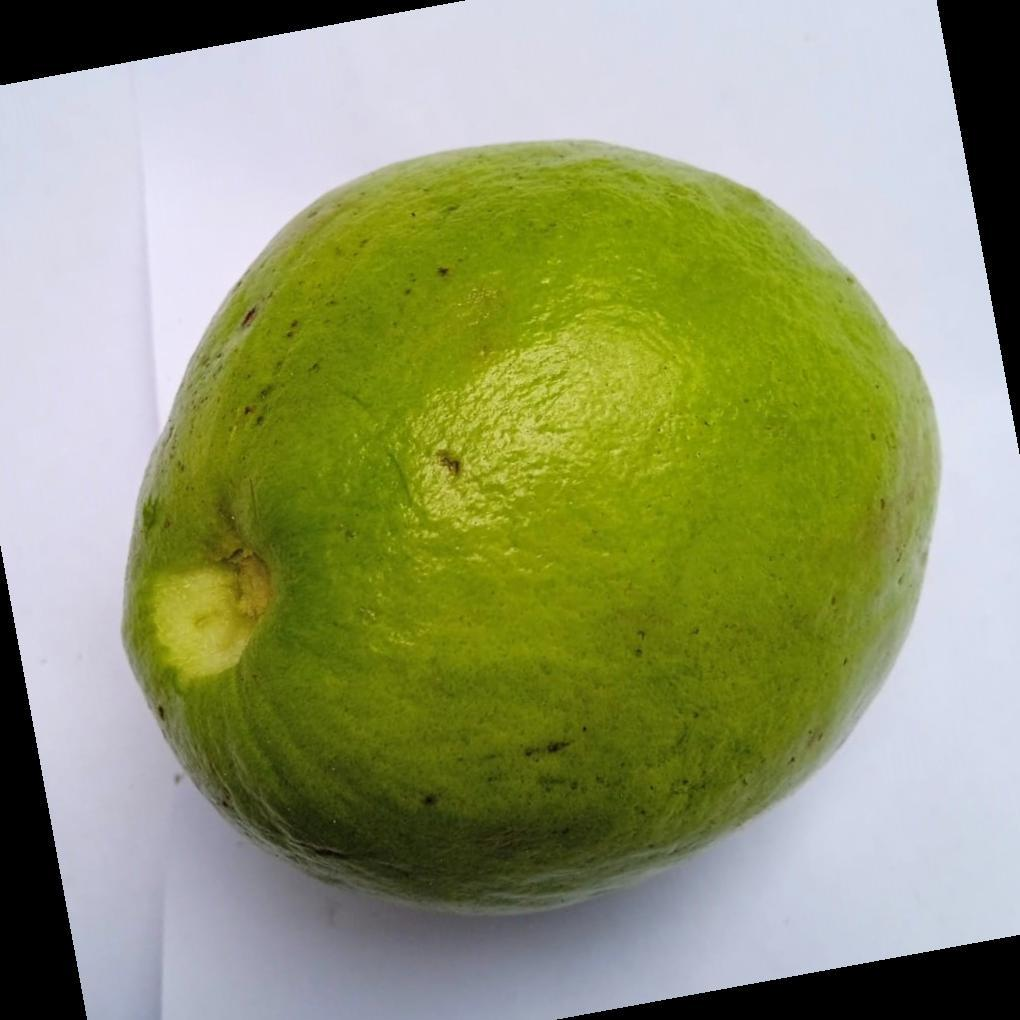FreshGuava: (120, 138, 942, 919)
